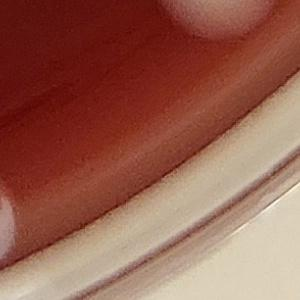colony: (148, 0, 288, 52), (0, 166, 29, 272)
